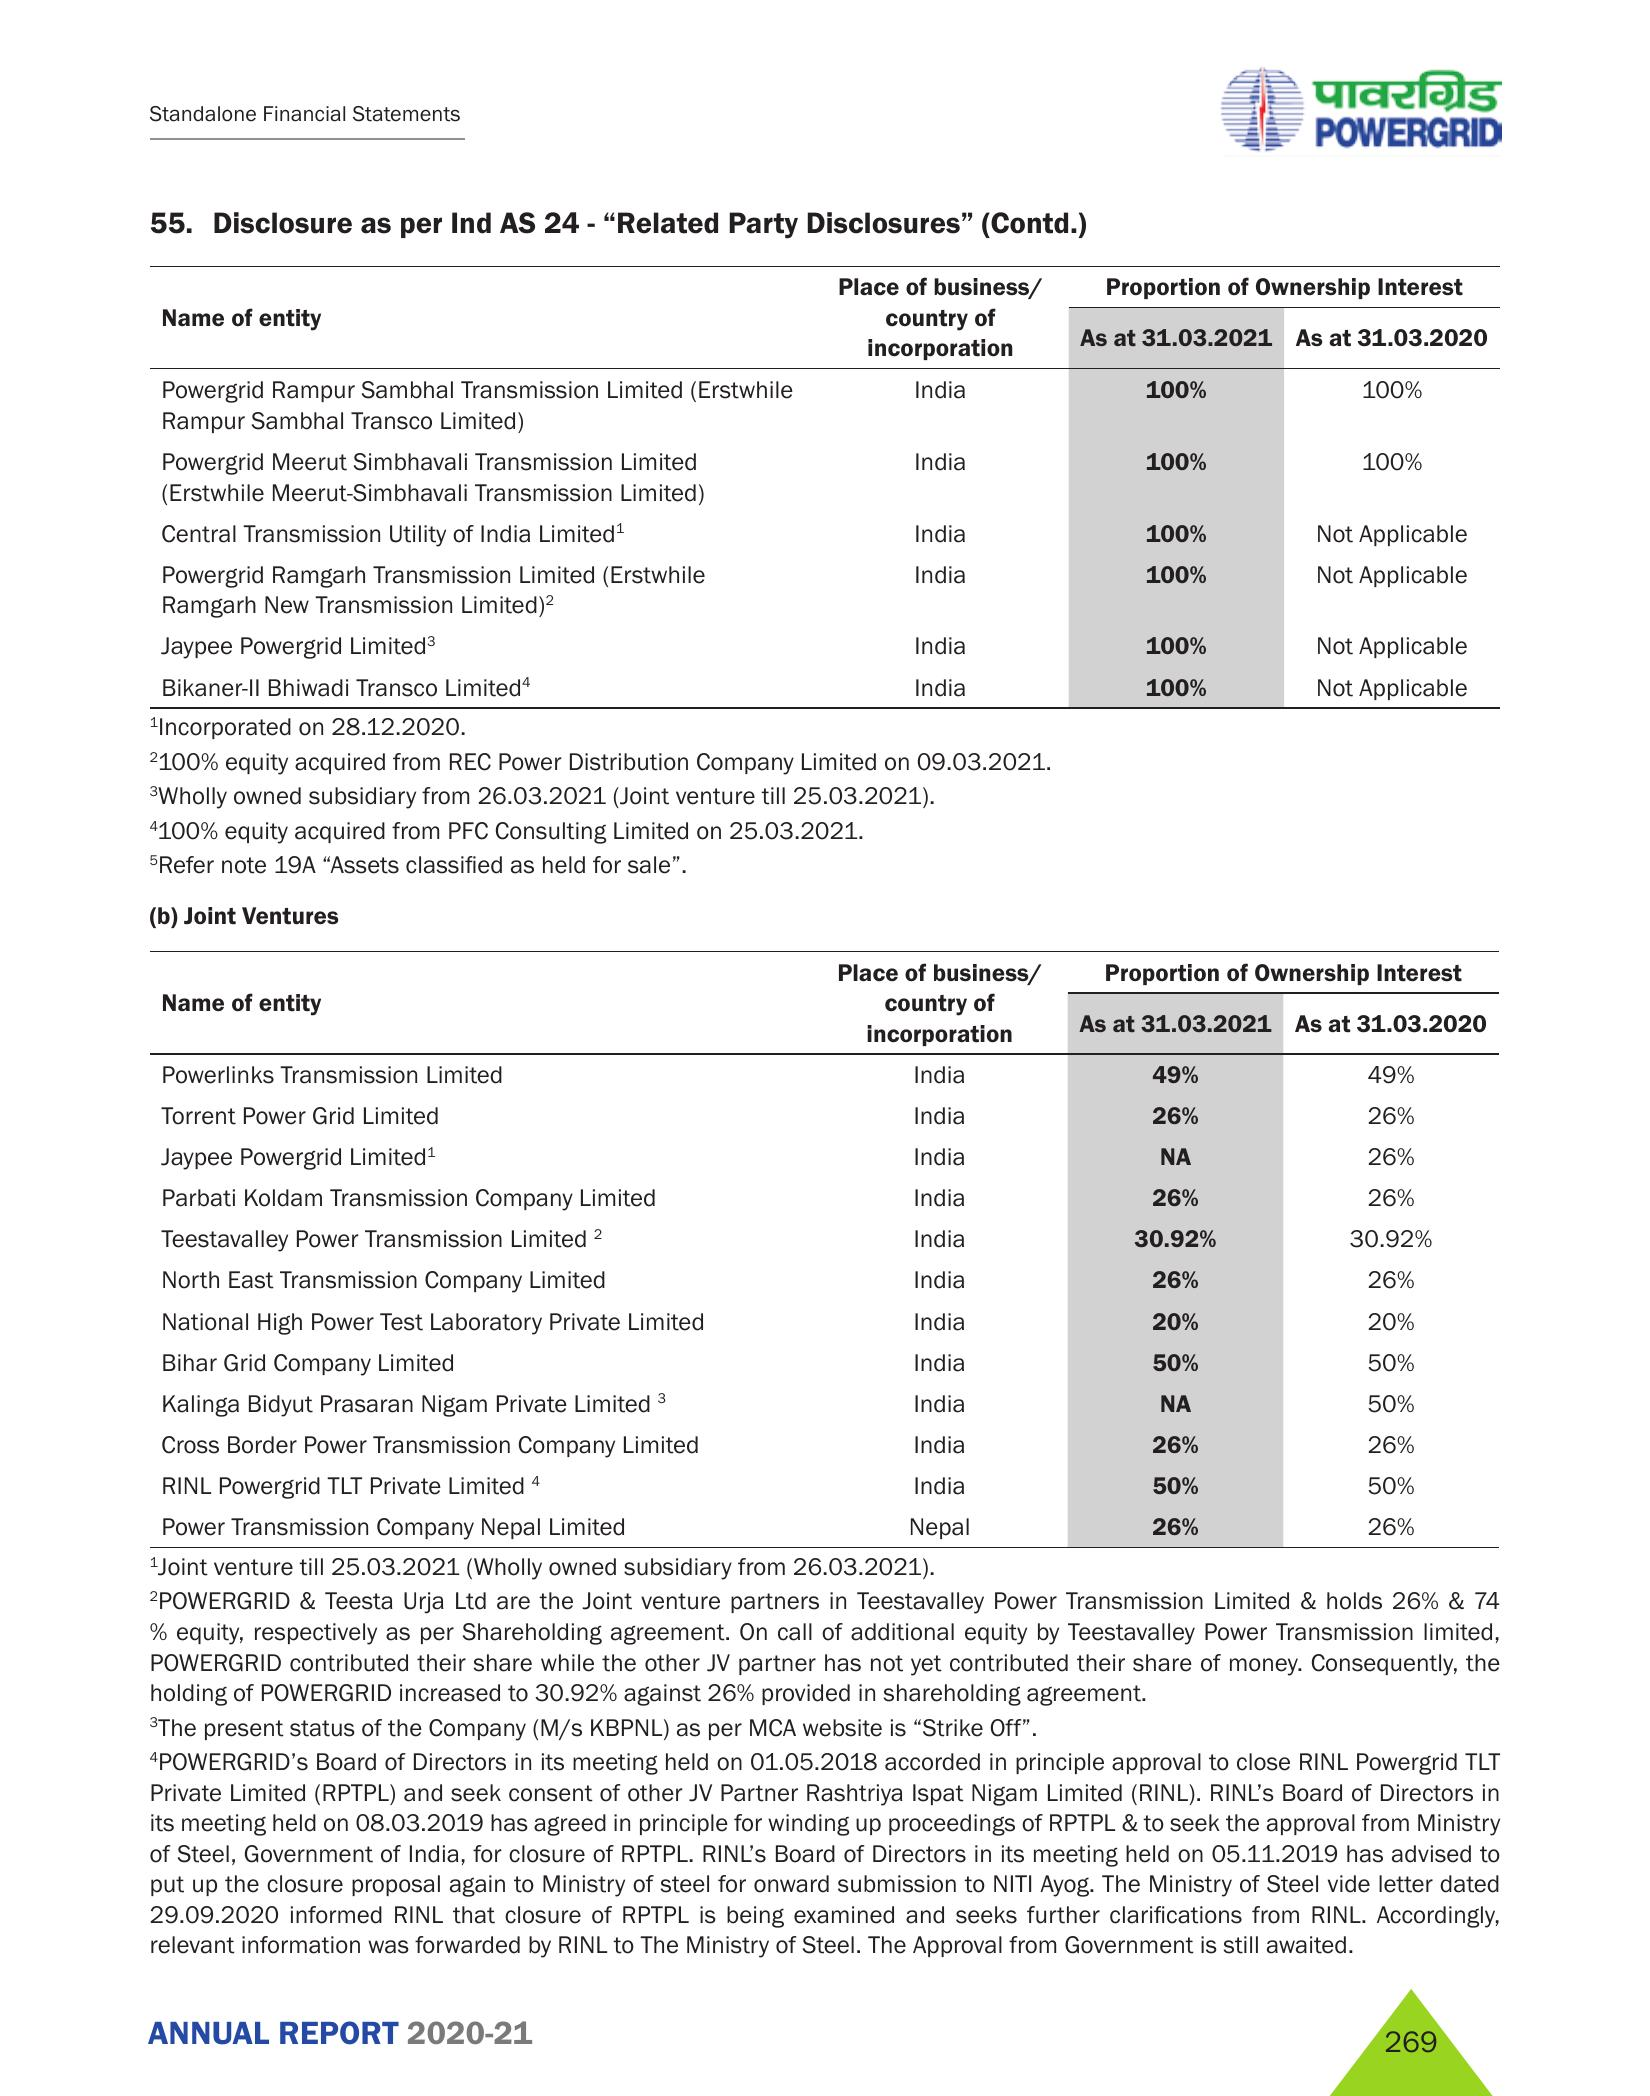Footer: (0, 1968, 1650, 2096)
Header: (0, 0, 1650, 175)
Table: (126, 932, 1507, 1540), (122, 257, 1539, 711)
